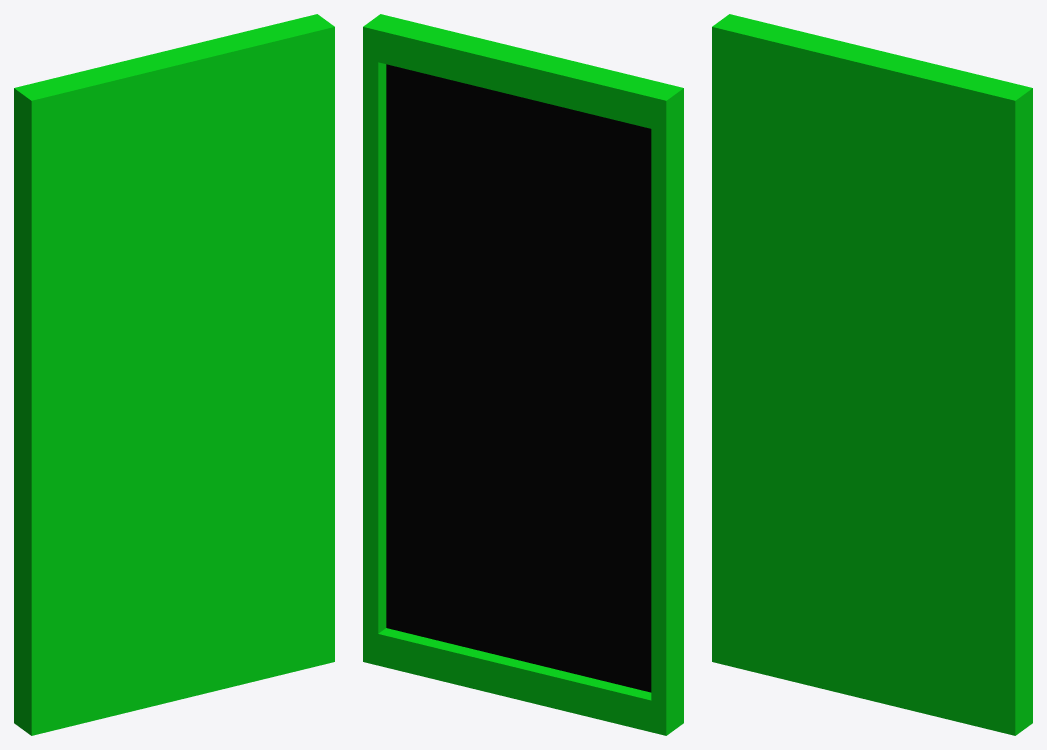
The model's file is rm_keycard_pickup.fbx.
The picture shows the model from 3 angles, left to right: view 1: azimuth 30°, elevation 25°; view 2: azimuth 150°, elevation 25°; view 3: azimuth 330°, elevation 25°; orthographic projection.
Parts seen in each view (by area): view 1: RM_Pickup_Keycard; view 2: RM_Pickup_Keycard; view 3: RM_Pickup_Keycard.
Boxes of the visible parts, <box> form: RM_Pickup_Keycard: <box>14,14,334,735</box>; RM_Pickup_Keycard: <box>363,14,683,735</box>; RM_Pickup_Keycard: <box>712,14,1032,735</box>.
Size of the model in its own units: 46.48 by 92.96 by 4.65.
